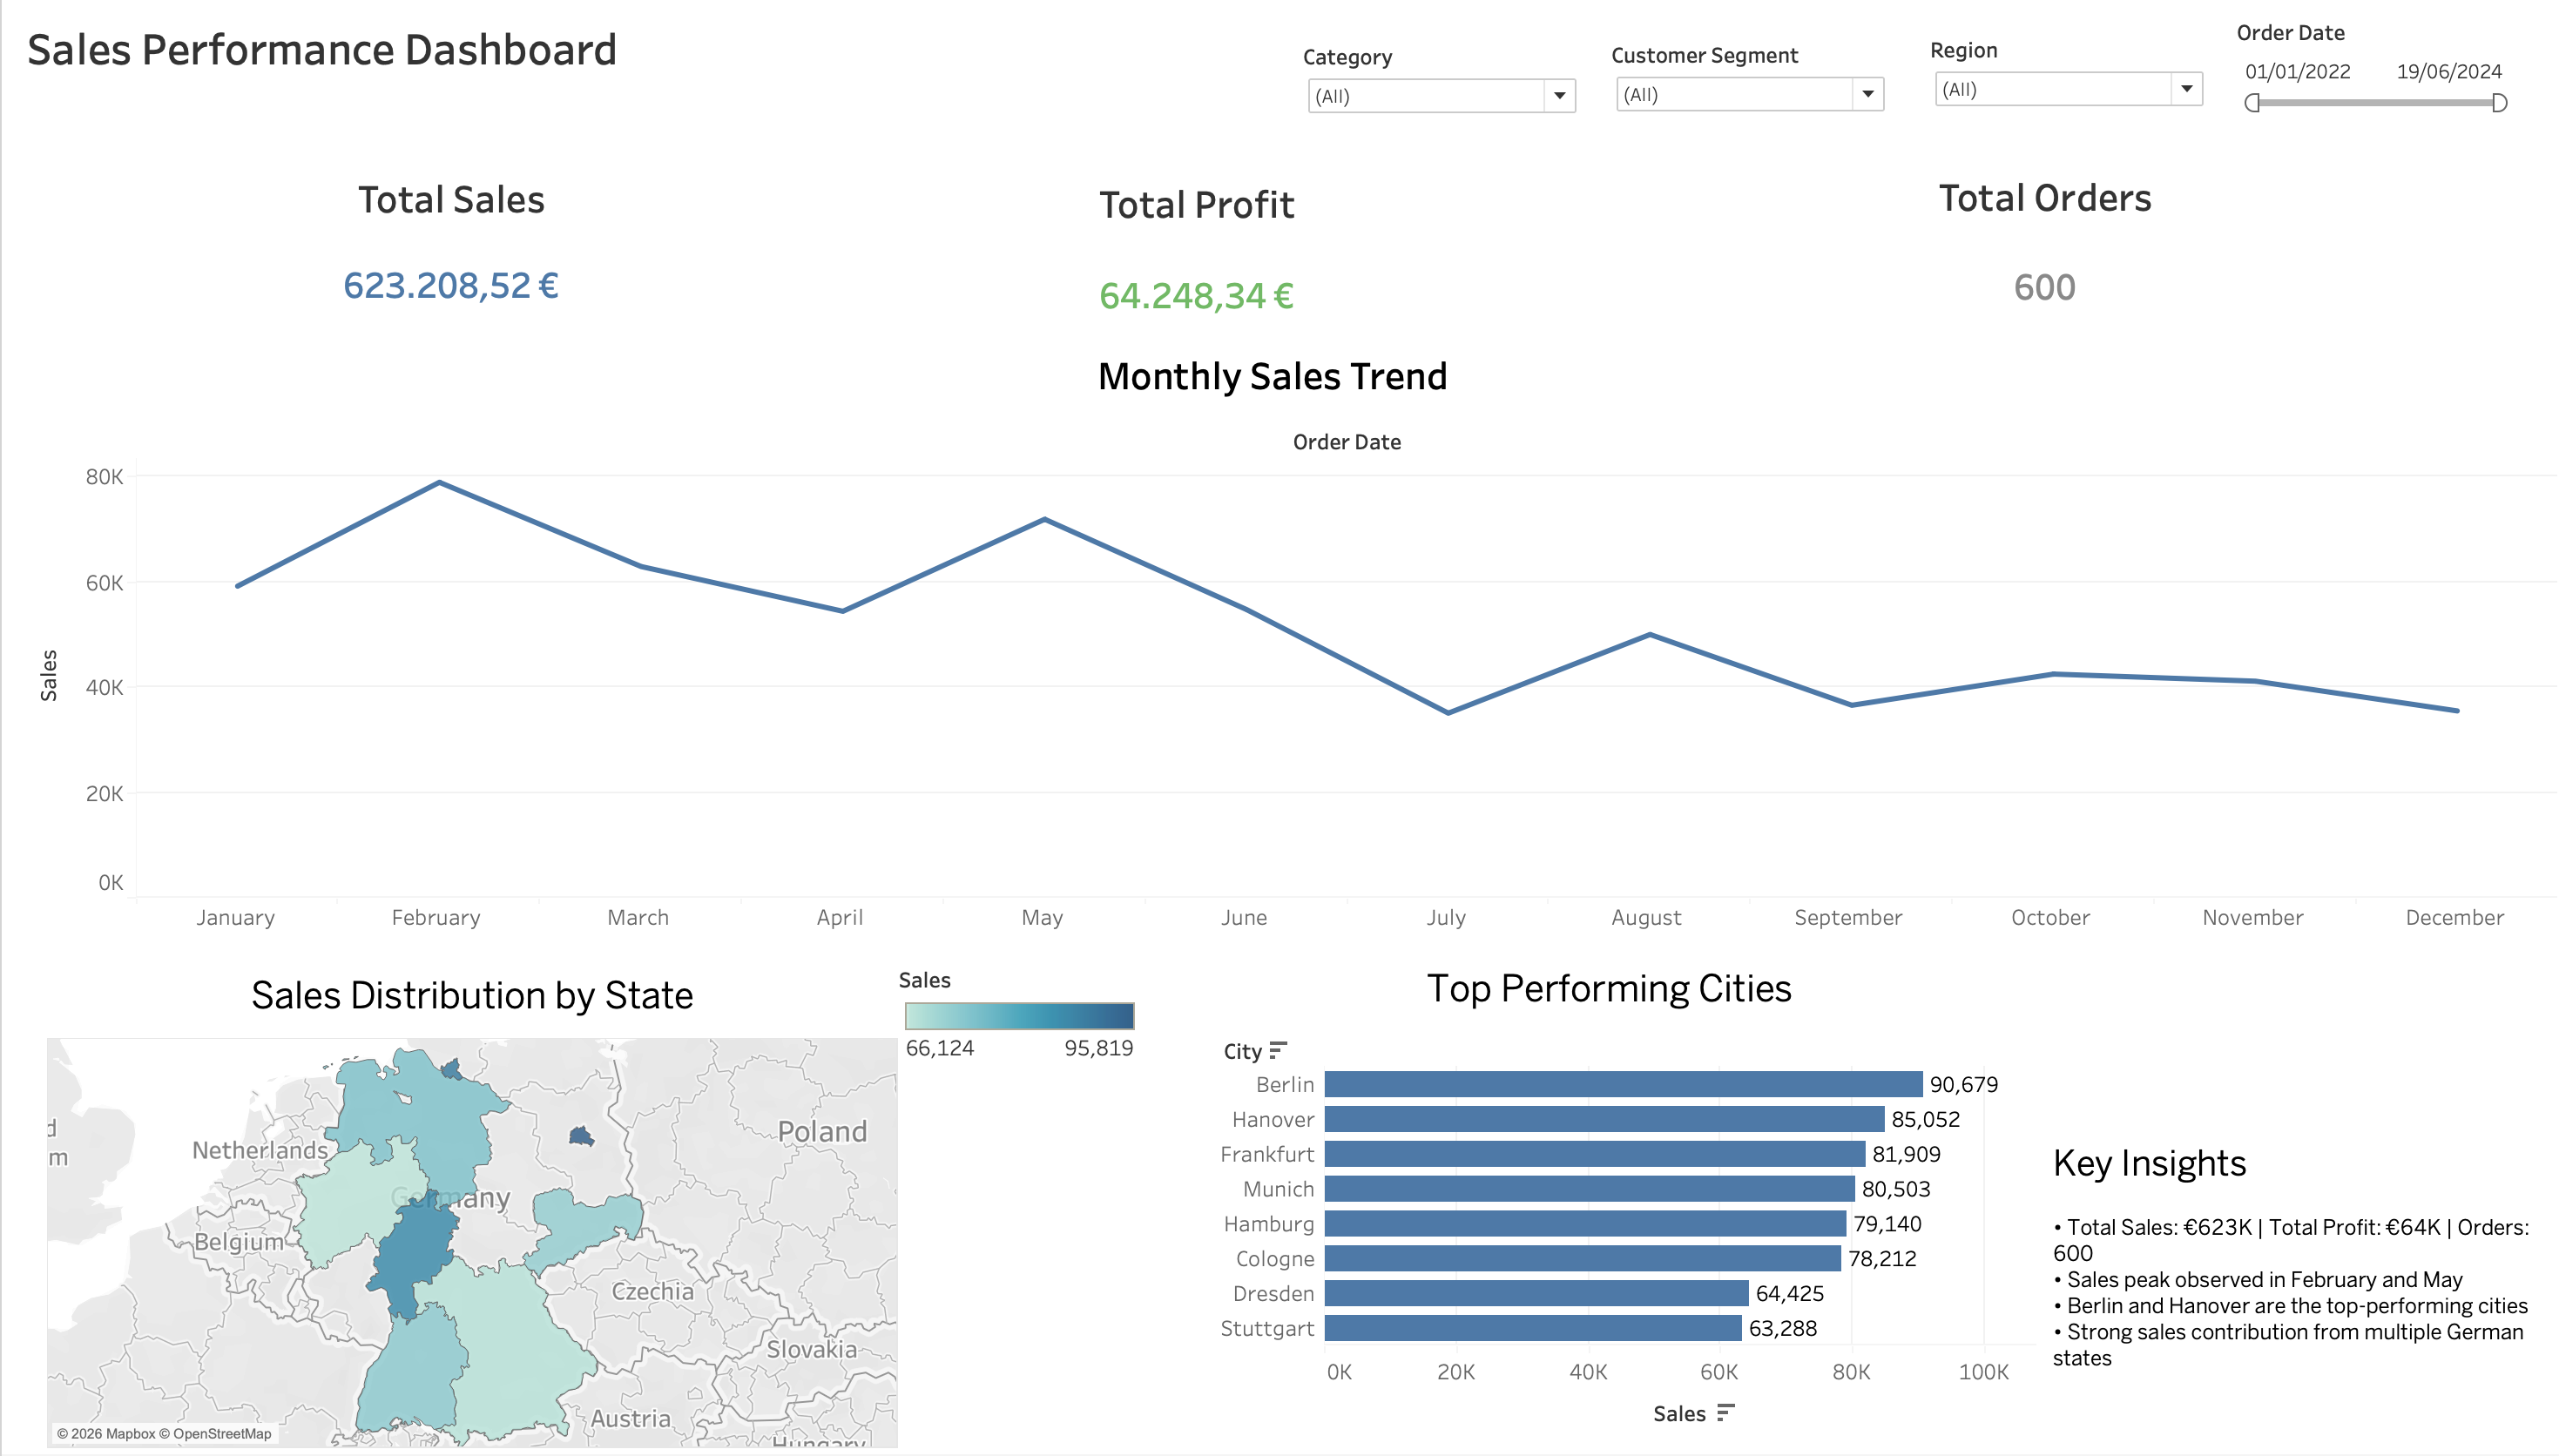

The page's visual inventory and layout, read from the dashboard file:
{"tool":"tableau","page":{"name":"Sales Performance Dashboard","canvas":[1000,1000],"units":"permille","ordinal":0},"visuals":[{"type":"title","box":[5.5,9.6,989.1,49]},{"type":"filter","title":"Sales Trend","param":"[federated.1wvlb3w00ov5xw11i52vr0eeiejq].[none:Order Date:qk]","box":[873.4,13.2,108.9,65.8]},{"type":"filter","title":"Sales Trend","param":"[federated.1wvlb3w00ov5xw11i52vr0eeiejq].[none:Region:nk]","box":[753.6,25.1,108.9,56.2]},{"type":"filter","title":"Sales Trend","param":"[federated.1wvlb3w00ov5xw11i52vr0eeiejq].[none:Customer Segment:nk]","box":[629,28.7,108.9,52.6]},{"type":"filter","title":"Sales Trend","param":"[federated.1wvlb3w00ov5xw11i52vr0eeiejq].[none:Category:nk]","box":[508.5,29.9,108.9,74.2]},{"type":"worksheet","title":"Total Orders","mark":"Automatic","box":[632.4,113.6,332.9,116]},{"type":"worksheet","title":"Total Sales","mark":"Automatic","box":[9.5,114.8,332.9,111.2]},{"type":"worksheet","title":"Total Profit","mark":"Automatic","box":[300.9,118.4,332.9,118.4]},{"type":"worksheet","title":"Sales Trend","mark":"Line","rows":["Sales"],"cols":["Order Date"],"box":[7.5,227.3,991.1,415.1]},{"type":"worksheet","title":"Top Cities by Sales","mark":"Automatic","rows":["City"],"cols":["Sales"],"box":[462.2,659.1,332.9,334.9]},{"type":"worksheet","title":"Sales by State Map","mark":"Multipolygon","box":[17.7,663.9,332.9,332.5]},{"type":"legend","title":"Sales by State Map","param":"[federated.1wvlb3w00ov5xw11i52vr0eeiejq].[sum:Sales:qk]","box":[350.6,663.9,95.3,90.9]},{"type":"text","box":[799.9,785.9,194,163.9]}]}

Visuals, with their boxes on the dashboard's canvas, which has no fixed pixel size, in thousandths of its width and height (x1, y1, x2, y2). These are canvas units, not pixel positions in the 2559x1456 screenshot, which may show the page scaled, cropped or inside an application window:
title: (6,10,995,59)
"Sales Trend" filter: (873,13,982,79)
"Sales Trend" filter: (754,25,862,81)
"Sales Trend" filter: (629,29,738,81)
"Sales Trend" filter: (508,30,617,104)
"Total Orders" worksheet: (632,114,965,230)
"Total Sales" worksheet: (10,115,342,226)
"Total Profit" worksheet: (301,118,634,237)
"Sales Trend" worksheet (Line marks): (8,227,999,642)
"Top Cities by Sales" worksheet: (462,659,795,994)
"Sales by State Map" worksheet (Multipolygon marks): (18,664,351,996)
"Sales by State Map" legend: (351,664,446,755)
text: (800,786,994,950)
